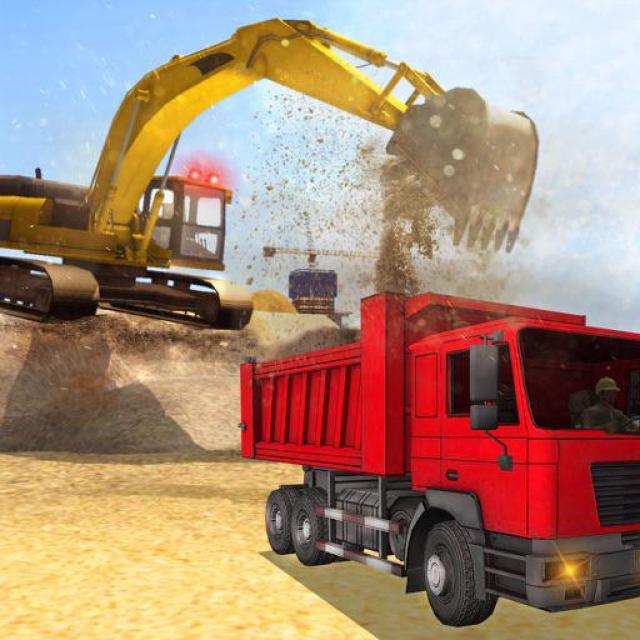excavator: (1, 13, 545, 326)
